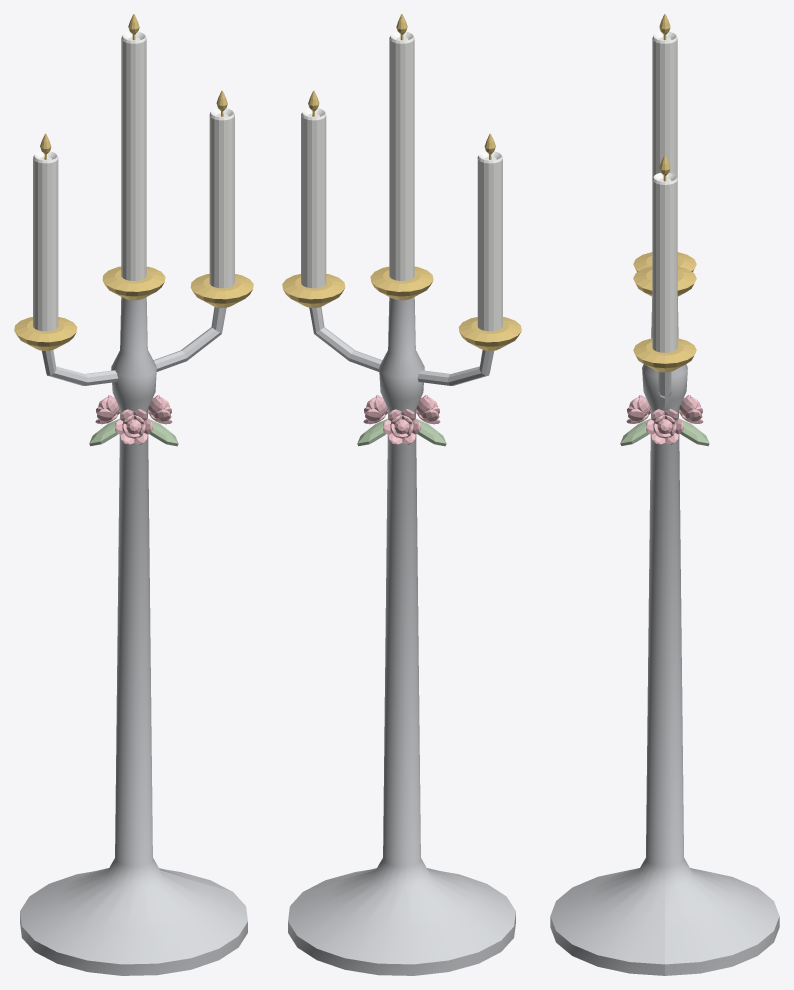
Rendered from wedding-and-chapel-kit-candle-stand-73b208dd__39392.glb.
The picture shows the model from 3 angles, left to right: view 1: azimuth 30°, elevation 25°; view 2: azimuth 150°, elevation 25°; view 3: azimuth 270°, elevation 25°; orthographic projection.
Parts seen in each view (by area): view 1: candle-stand; view 2: candle-stand; view 3: candle-stand.
Part boxes in pixels (x1,y1,x2,y2): candle-stand: (14, 14, 253, 975); candle-stand: (282, 14, 521, 975); candle-stand: (550, 14, 779, 975).
Bounding box in the file's own units: 0.42 × 1.58 × 0.36.
